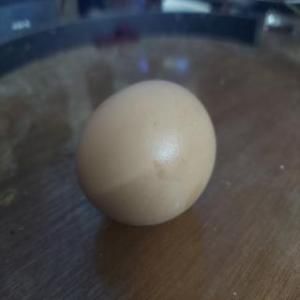egg: (70, 76, 222, 228)
